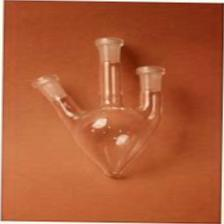Pear shaped flask: (24, 27, 163, 178)
